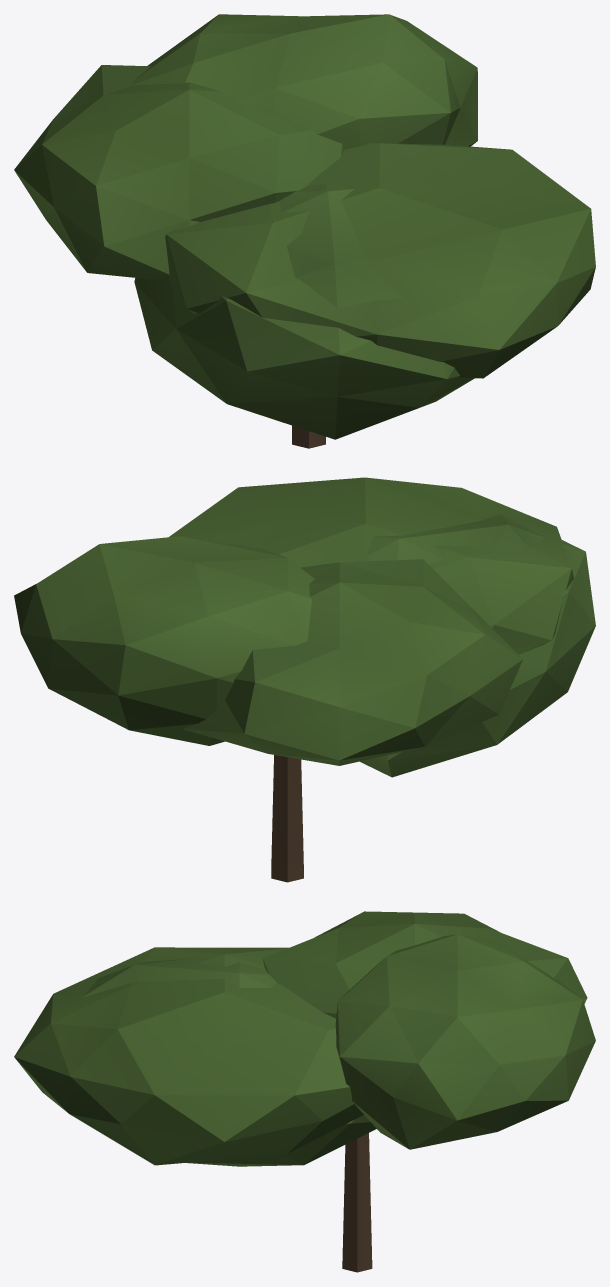
The model's file is veg_sly_1.glb.
3 renders of one model, top to bottom at view 1: azimuth 30°, elevation 25°; view 2: azimuth 150°, elevation 25°; view 3: azimuth 270°, elevation 25°, orthographic. The views are drawn at different scales.
Visible parts, largest first — view 1: geometry_0; view 2: geometry_0; view 3: geometry_0.
Part boxes in pixels (x1=…): geometry_0: x1=14, y1=14, x2=595, y2=448; geometry_0: x1=14, y1=477, x2=595, y2=882; geometry_0: x1=14, y1=911, x2=595, y2=1272.
Bounding box in the file's own units: 1.33 × 1 × 1.69.
